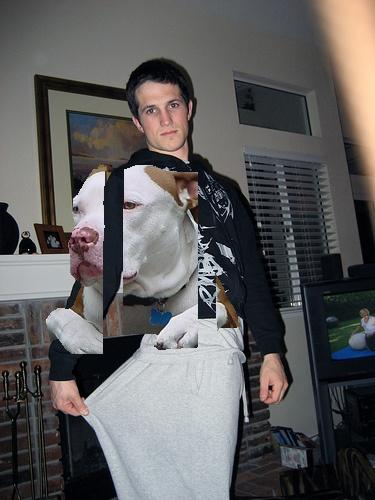tampered: (47, 166, 241, 354)
